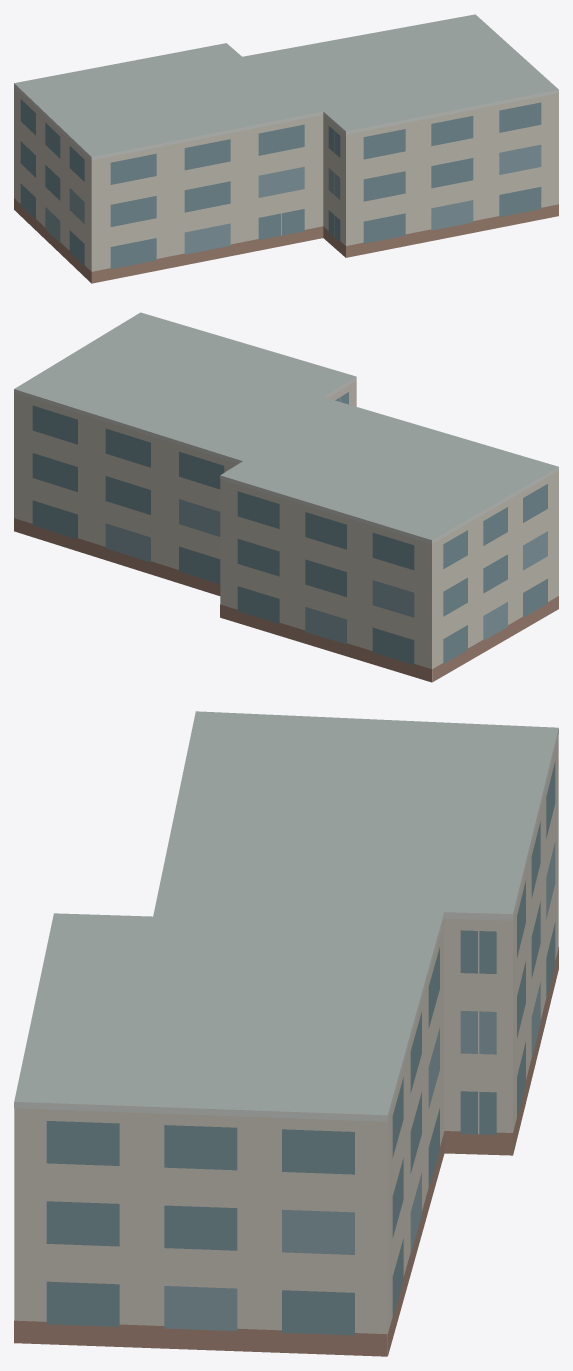
The model's file is survey-upis-32634506.glb.
The picture shows the model from 3 angles, top to bottom: view 1: azimuth 30°, elevation 25°; view 2: azimuth 150°, elevation 25°; view 3: azimuth 270°, elevation 25°; orthographic projection. The views are drawn at different scales.
Parts seen in each view (by area): view 1: survey-upis-32634506.tmp; view 2: survey-upis-32634506.tmp; view 3: survey-upis-32634506.tmp.
Boxes of the visible parts, bbox=[...] form: survey-upis-32634506.tmp: bbox=[14, 14, 558, 283]; survey-upis-32634506.tmp: bbox=[14, 312, 558, 682]; survey-upis-32634506.tmp: bbox=[14, 711, 558, 1356].
Size of the model in its own units: 32.87 by 9.15 by 18.73.
